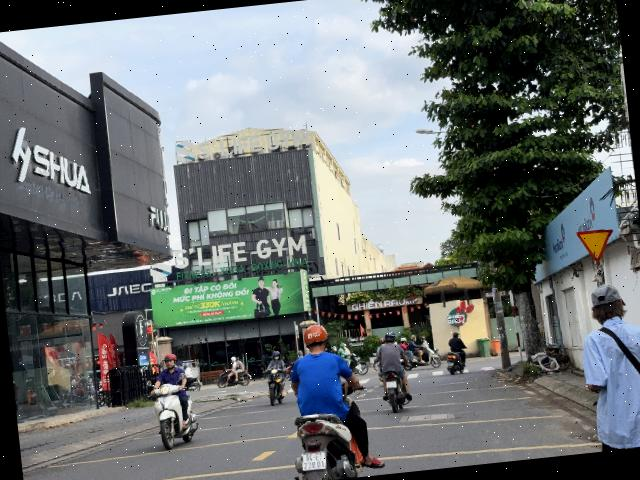giao-nhau-voi-duong-uu-tien: (575, 228, 617, 266)
